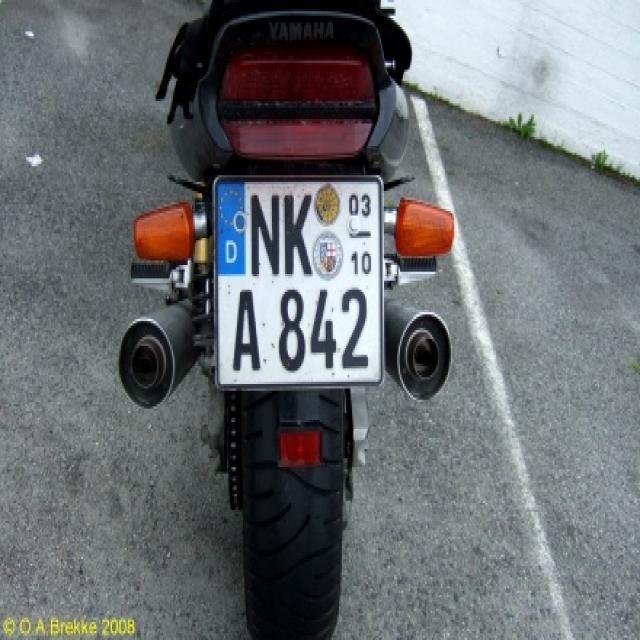License_Plate: (210, 172, 384, 386)
